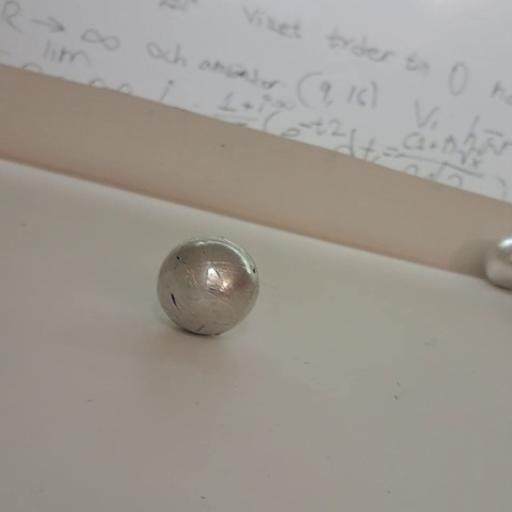alive: (159, 234, 264, 340), (482, 233, 512, 291)
